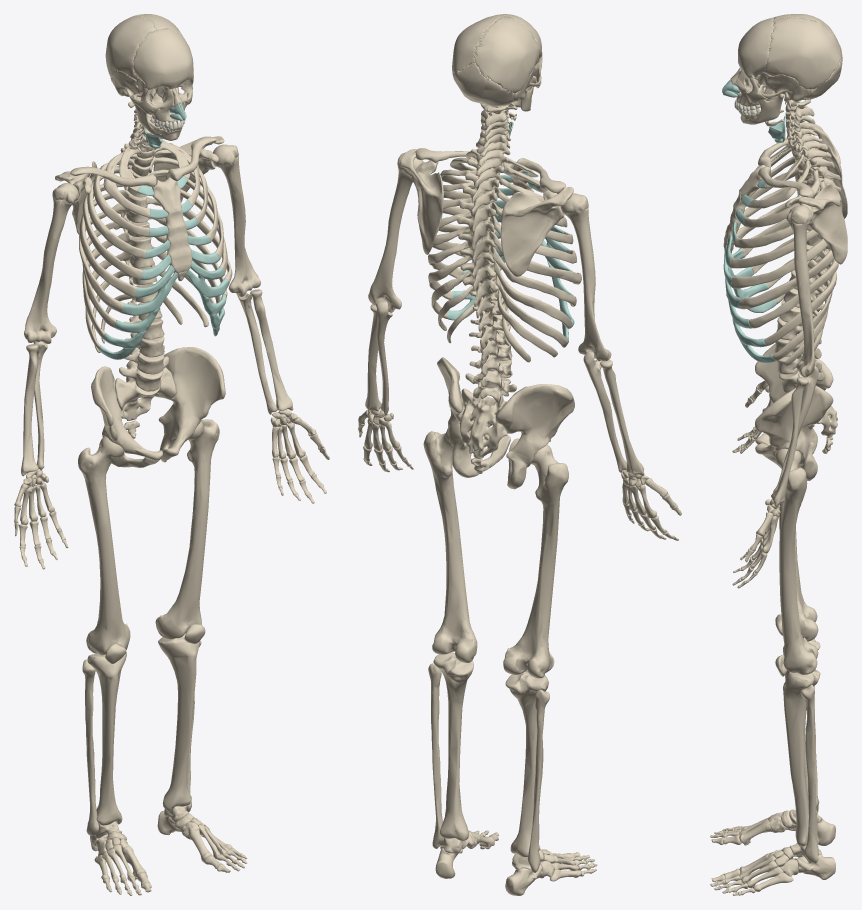
File: skeleton_final.glb
3 views of the same model, side by side, from view 1: azimuth 30°, elevation 25°; view 2: azimuth 150°, elevation 25°; view 3: azimuth 270°, elevation 25° (orthographic). The views are drawn at different scales.
Visible parts, largest first — view 1: Femur_right, Femur_left, Hip bone_left, Tibia_left, Frontal bone, Tibia_right, Humerus_right, Humerus_left, Hip bone_right, Parietal bone_right, Sacrum, Fibula_right (+18 smaller); view 2: Femur_right, Femur_left, Hip bone_right, Scapula_right, Parietal bone_right, Tibia_left, Tibia_right, Humerus_right, Humerus_left, Hip bone_left, Scapula_left, Sacrum (+15 smaller); view 3: Femur_left, Parietal bone_left, Tibia_left, Hip bone_left, Humerus_left, Scapula_left, Fibula_left, Frontal bone, Hip bone_right, Radius_left, Femur_right, Seventh rib_left (+28 smaller).
Boxes of the visible parts, box(x1,y1,x2,y2) form: Femur_right: box(78, 436, 130, 655); Femur_left: box(155, 419, 219, 639); Hip bone_left: box(158, 347, 225, 462); Tibia_left: box(158, 633, 200, 811); Frontal bone: box(133, 28, 193, 91); Tibia_right: box(87, 652, 126, 825); Humerus_right: box(24, 183, 78, 344); Humerus_left: box(212, 144, 260, 296); Hip bone_right: box(91, 366, 162, 467); Parietal bone_right: box(105, 14, 157, 79); Sacrum: box(115, 367, 175, 420); Fibula_right: box(82, 659, 99, 835); Femur_right: box(503, 444, 568, 678); Femur_left: box(423, 428, 477, 662); Hip bone_right: box(495, 384, 574, 489); Scapula_right: box(500, 187, 573, 276); Parietal bone_right: box(474, 16, 539, 93); Tibia_left: box(433, 652, 473, 840); Tibia_right: box(505, 671, 548, 857); Humerus_right: box(561, 193, 611, 361); Humerus_left: box(368, 152, 423, 312); Hip bone_left: box(437, 357, 510, 477); Scapula_left: box(400, 149, 443, 254); Sacrum: box(459, 388, 507, 458); Femur_left: box(775, 448, 818, 674); Parietal bone_left: box(763, 17, 840, 89); Tibia_left: box(783, 669, 820, 846); Hip bone_left: box(755, 386, 833, 480); Humerus_left: box(786, 205, 815, 377); Scapula_left: box(785, 183, 847, 264); Fibula_left: box(800, 684, 818, 863); Frontal bone: box(738, 17, 774, 78); Hip bone_right: box(755, 343, 833, 453); Radius_left: box(771, 377, 808, 506); Femur_right: box(779, 470, 818, 641); Seventh rib_left: box(739, 249, 834, 309).
Bounding box in the file's own units: 0.6692 × 1.7 × 0.2501.
